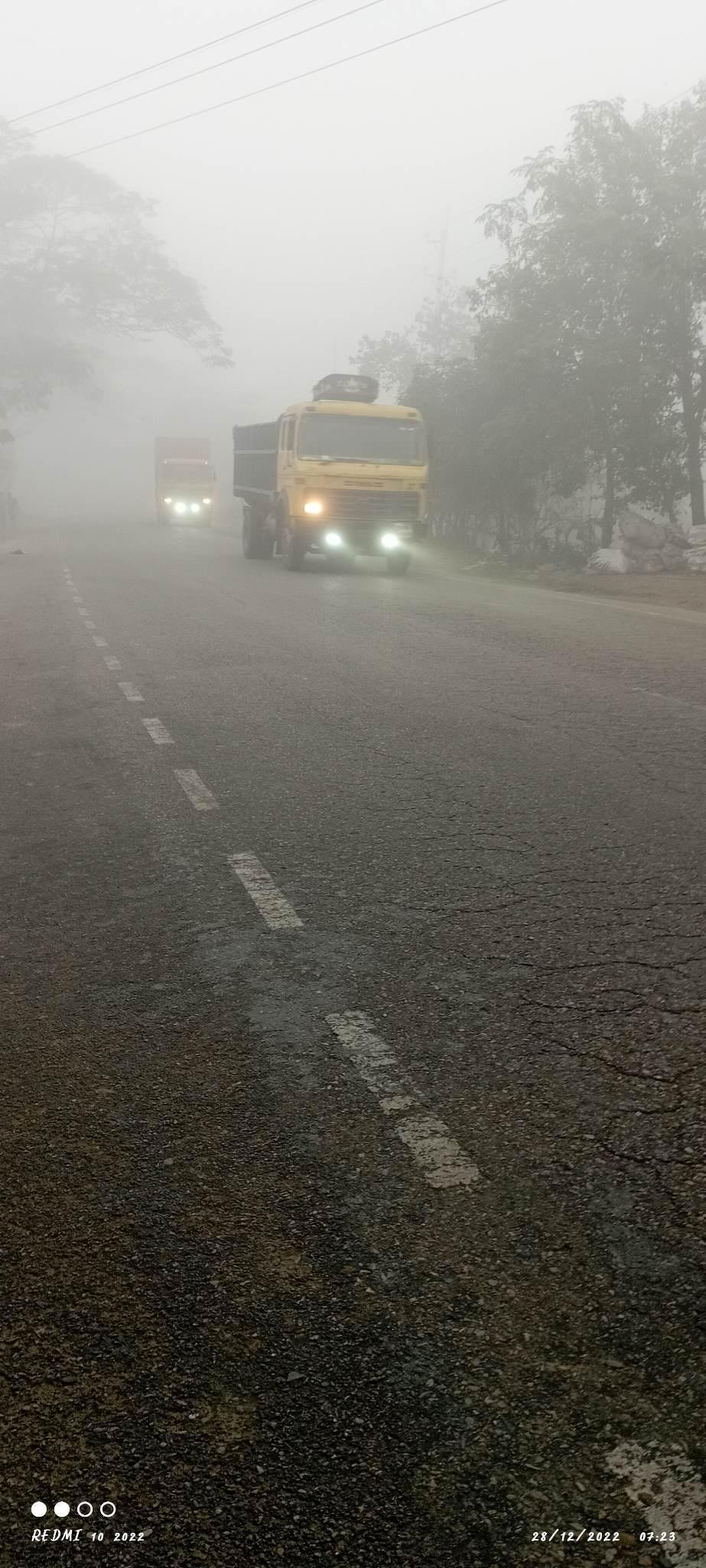Truck: (221, 367, 473, 573), (136, 420, 237, 540)
